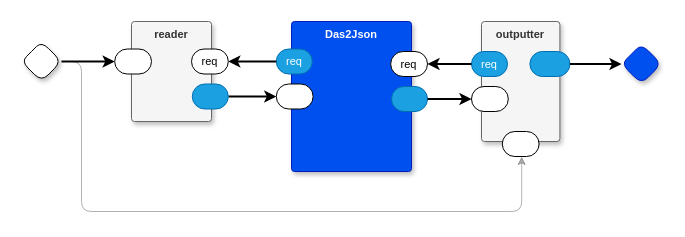
Image size: 685x237. Some labels were removed from this diagram. Each missing label, with the centre of its shape:
filename: the point at 133,61
go: the point at 520,143
